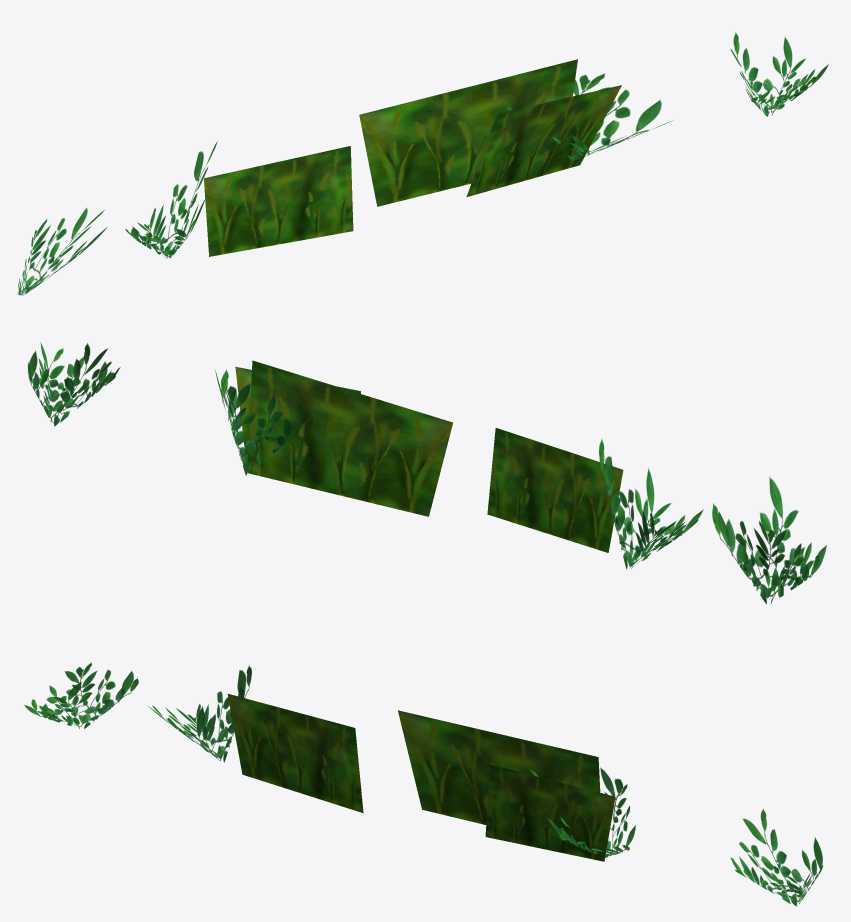
The model's file is cc_grass2.glb.
3 views of the same model, one above another, from view 1: azimuth 30°, elevation 25°; view 2: azimuth 150°, elevation 25°; view 3: azimuth 330°, elevation 25° (orthographic). The views are drawn at different scales.
Parts seen in each view (by area): view 1: cc_grass2; view 2: cc_grass2; view 3: cc_grass2.
Part boxes in pixels (x1,y1,x2,y2): cc_grass2: [17, 32, 828, 295]; cc_grass2: [27, 342, 826, 604]; cc_grass2: [24, 662, 823, 906].
Size of the model in its own units: 8.21 by 1.47 by 0.9975.
2 materials, 2 textured.
